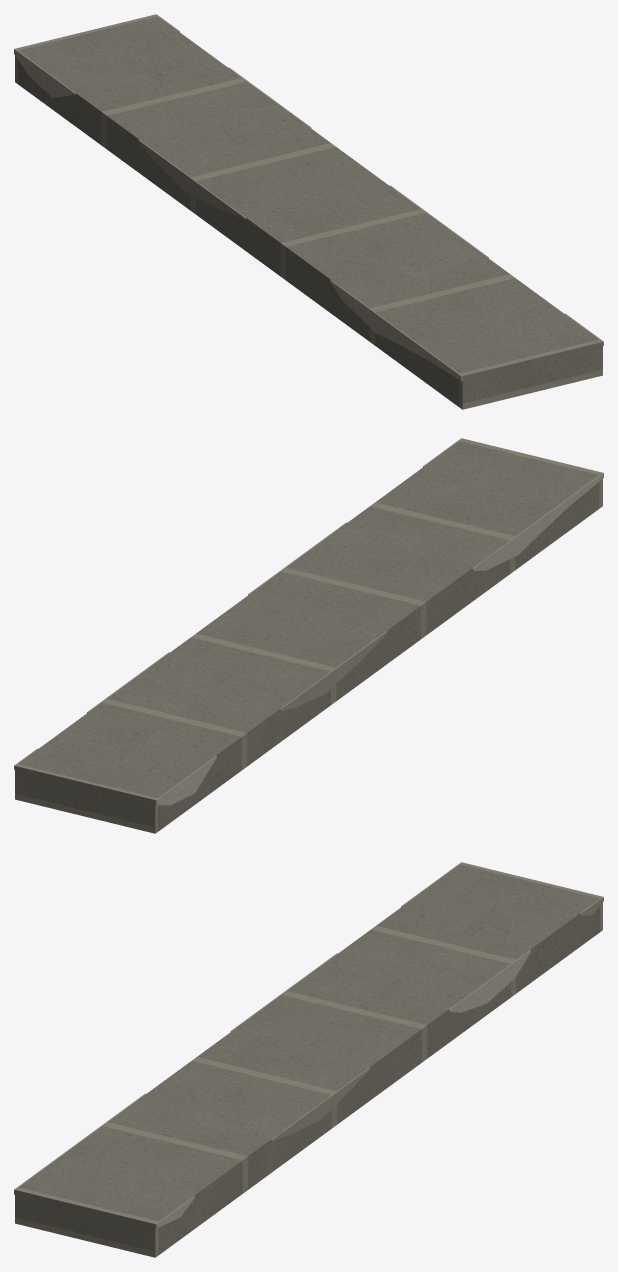
Rendered from masonry_edge.glb.
3 renders of one model, top to bottom at view 1: azimuth 30°, elevation 25°; view 2: azimuth 150°, elevation 25°; view 3: azimuth 330°, elevation 25°, orthographic.
Parts seen in each view (by area): view 1: ME02_masonry_edge_strip_v2; view 2: ME02_masonry_edge_strip_v2; view 3: ME02_masonry_edge_strip_v2.
Boxes of the visible parts, x1,y1,x2,y2 form: ME02_masonry_edge_strip_v2: [14, 14, 603, 409]; ME02_masonry_edge_strip_v2: [14, 438, 603, 833]; ME02_masonry_edge_strip_v2: [14, 862, 603, 1257].
Bounding box in the file's own units: 0.184 × 0.0415 × 1.
Materials: 4 (3 with a texture image).
